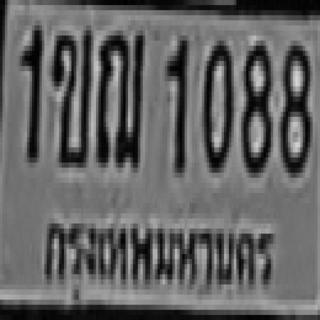A02: (49, 25, 91, 163)
A12: (94, 25, 143, 163)
N00: (202, 36, 231, 168)
N01: (18, 20, 41, 158), (166, 36, 186, 168)
N08: (240, 36, 270, 173), (278, 41, 308, 173)
P04: (32, 200, 282, 312)
